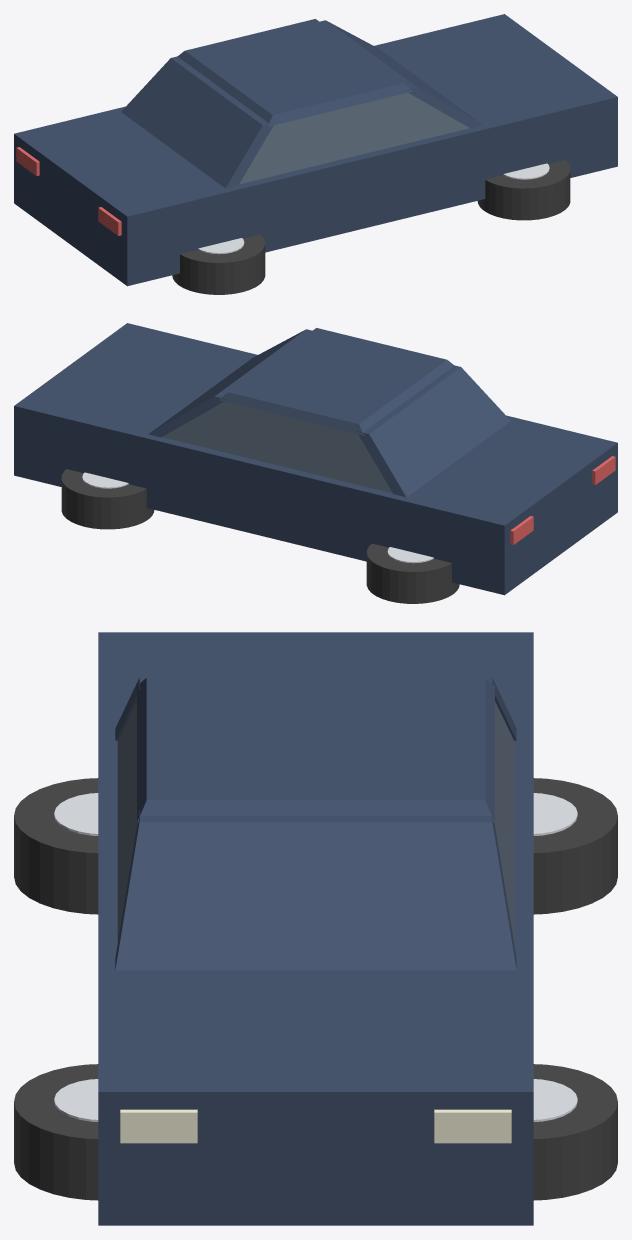
The model's file is honda_civic.glb.
3 renders of one model, top to bottom at view 1: azimuth 30°, elevation 25°; view 2: azimuth 150°, elevation 25°; view 3: azimuth 270°, elevation 25°, orthographic. The views are drawn at different scales.
Visible parts, largest first — view 1: geometry_0, geometry_2, geometry_4, geometry_1, geometry_5, geometry_9, geometry_3, geometry_6, geometry_10, geometry_16, geometry_14; view 2: geometry_0, geometry_2, geometry_4, geometry_1, geometry_7, geometry_11, geometry_3, geometry_8, geometry_12, geometry_14, geometry_16; view 3: geometry_0, geometry_3, geometry_2, geometry_9, geometry_11, geometry_5, geometry_7, geometry_1, geometry_13, geometry_15, geometry_6, geometry_8 (+3 smaller).
Boxes of the visible parts, box(x1,y1,x2,y2) form: geometry_0: box(14, 14, 617, 286); geometry_2: box(177, 19, 413, 126); geometry_4: box(121, 56, 275, 188); geometry_1: box(239, 93, 469, 184); geometry_5: box(477, 160, 570, 220); geometry_9: box(172, 234, 265, 294); geometry_3: box(320, 20, 483, 128); geometry_6: box(503, 163, 549, 179); geometry_10: box(198, 238, 244, 254); geometry_16: box(16, 147, 39, 176); geometry_14: box(98, 207, 121, 235); geometry_0: box(14, 323, 617, 595); geometry_2: box(218, 328, 454, 435); geometry_4: box(356, 365, 510, 497); geometry_1: box(162, 402, 392, 493); geometry_7: box(61, 469, 154, 529); geometry_11: box(366, 543, 459, 603); geometry_3: box(148, 329, 311, 437); geometry_8: box(82, 472, 128, 488); geometry_12: box(387, 547, 433, 563); geometry_14: box(592, 456, 615, 485); geometry_16: box(510, 516, 533, 544); geometry_0: box(98, 632, 533, 1225); geometry_3: box(115, 810, 516, 970); geometry_2: box(137, 677, 494, 822); geometry_9: box(14, 778, 98, 914); geometry_11: box(533, 778, 617, 914); geometry_5: box(14, 1064, 98, 1200); geometry_7: box(533, 1064, 617, 1200); geometry_1: box(117, 701, 514, 942); geometry_13: box(120, 1109, 197, 1143); geometry_15: box(434, 1109, 511, 1143); geometry_6: box(54, 1079, 98, 1121); geometry_8: box(533, 1079, 577, 1121).
Bounding box in the file's own units: 4.56 × 1.2 × 2.5.
